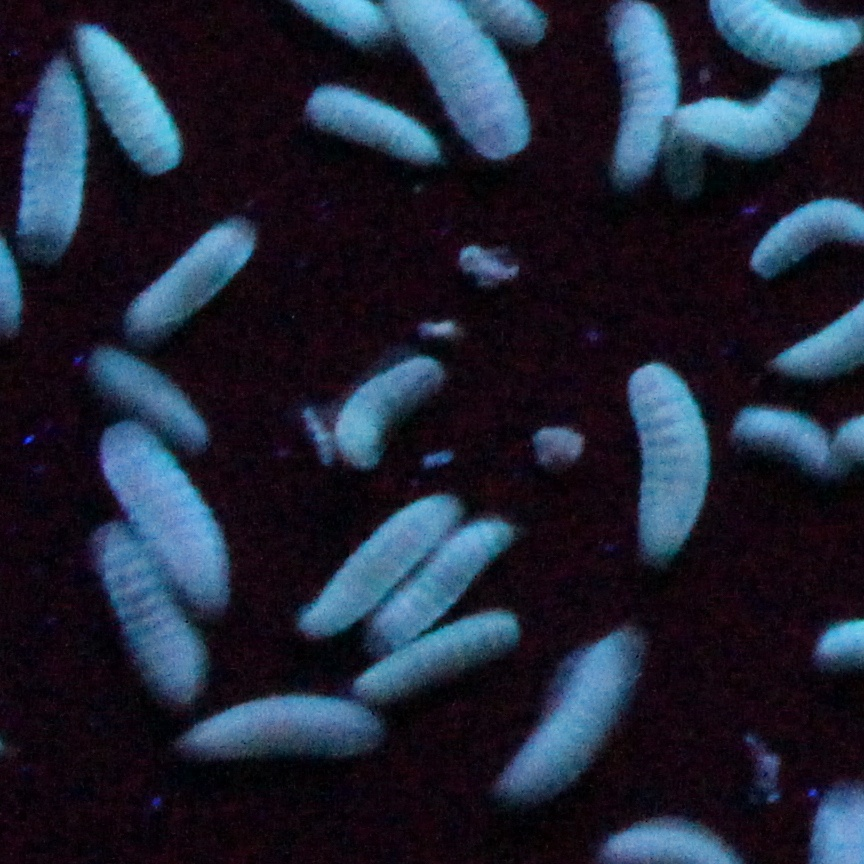larve: (512, 631, 644, 800), (105, 425, 220, 602), (89, 531, 201, 696), (322, 488, 446, 633), (354, 606, 522, 708), (126, 208, 261, 333), (181, 688, 387, 768), (632, 359, 709, 568), (391, 516, 516, 637), (75, 21, 177, 168), (603, 0, 673, 184), (89, 347, 209, 445), (669, 74, 816, 149), (340, 357, 440, 467), (26, 55, 77, 253), (303, 88, 440, 159), (730, 408, 824, 468)
